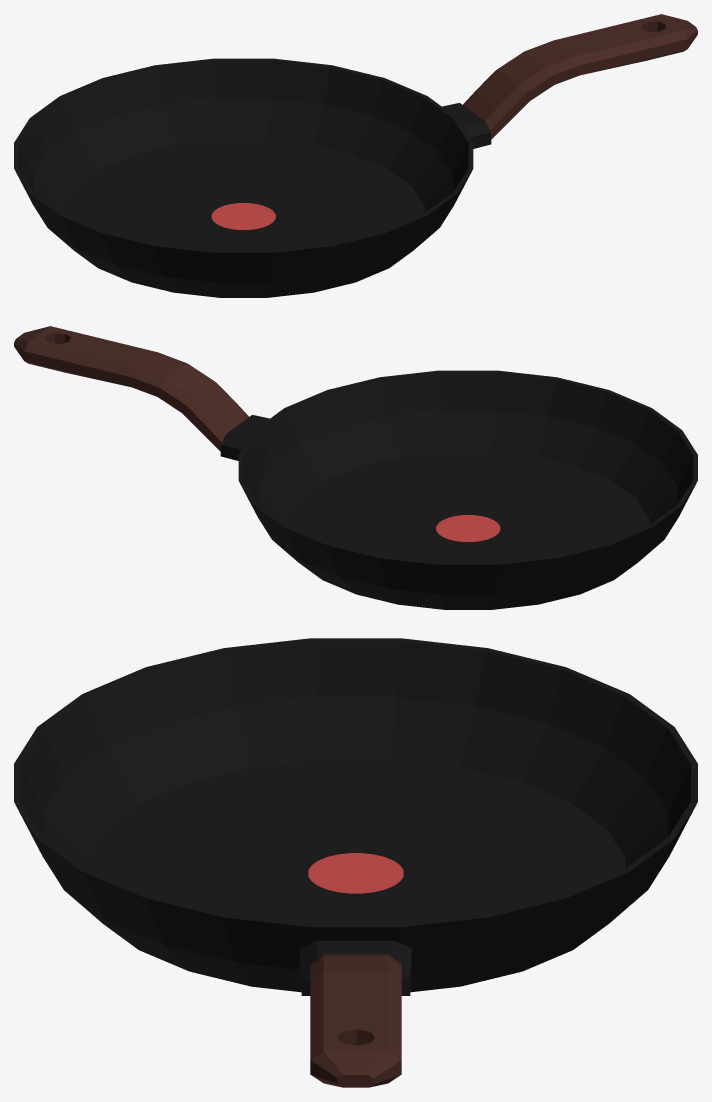
File: Frying Pan.glb
3 renders of one model, top to bottom at view 1: azimuth 30°, elevation 25°; view 2: azimuth 150°, elevation 25°; view 3: azimuth 270°, elevation 25°, orthographic. The views are drawn at different scales.
Visible parts, largest first — view 1: Frying_pan; view 2: Frying_pan; view 3: Frying_pan.
Part boxes in pixels (x1,y1,x2,y2): Frying_pan: [14, 14, 697, 297]; Frying_pan: [14, 326, 697, 609]; Frying_pan: [14, 638, 697, 1087].
Size of the model in its own units: 0.2772 by 0.0386 by 0.1704.
1 material, 1 textured.
